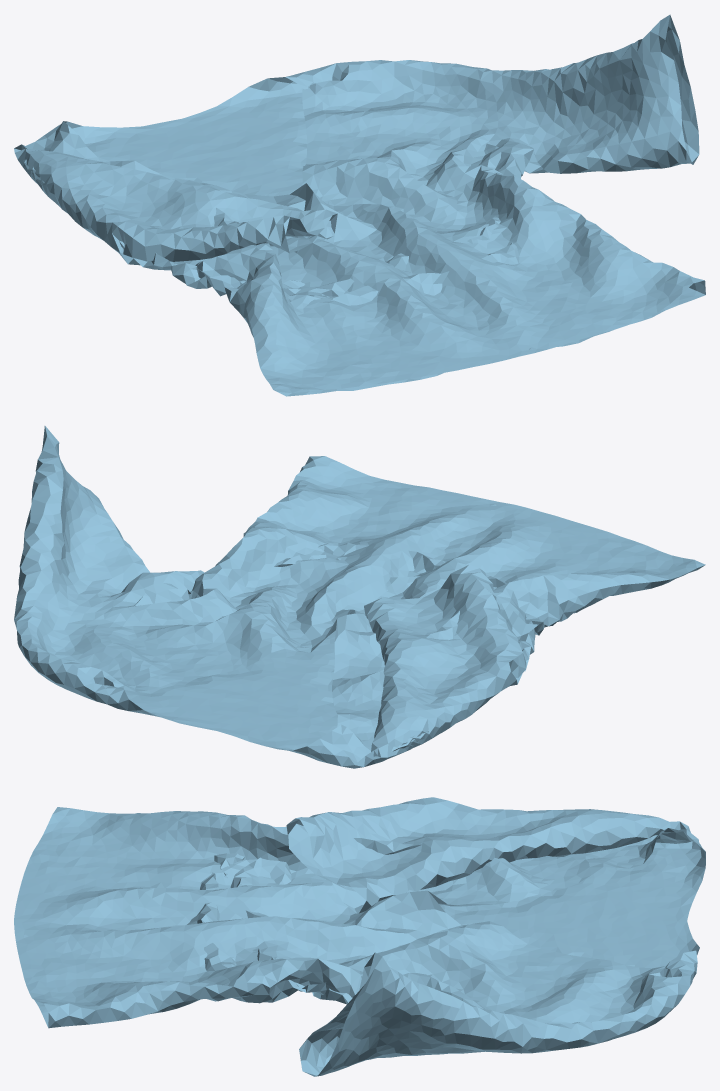
Rendered from frame_05.glb.
3 renders of one model, top to bottom at view 1: azimuth 30°, elevation 25°; view 2: azimuth 150°, elevation 25°; view 3: azimuth 270°, elevation 25°, orthographic. The views are drawn at different scales.
Parts seen in each view (by area): view 1: frame_05.obj; view 2: frame_05.obj; view 3: frame_05.obj.
Part boxes in pixels (x1,y1,x2,y2): frame_05.obj: [14, 14, 705, 396]; frame_05.obj: [14, 426, 705, 768]; frame_05.obj: [14, 797, 705, 1076].
Bounding box in the file's own units: 1.51 × 0.3635 × 1.58.
